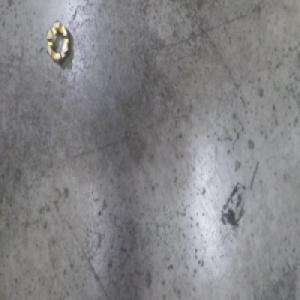Nut: (44, 19, 71, 68)
